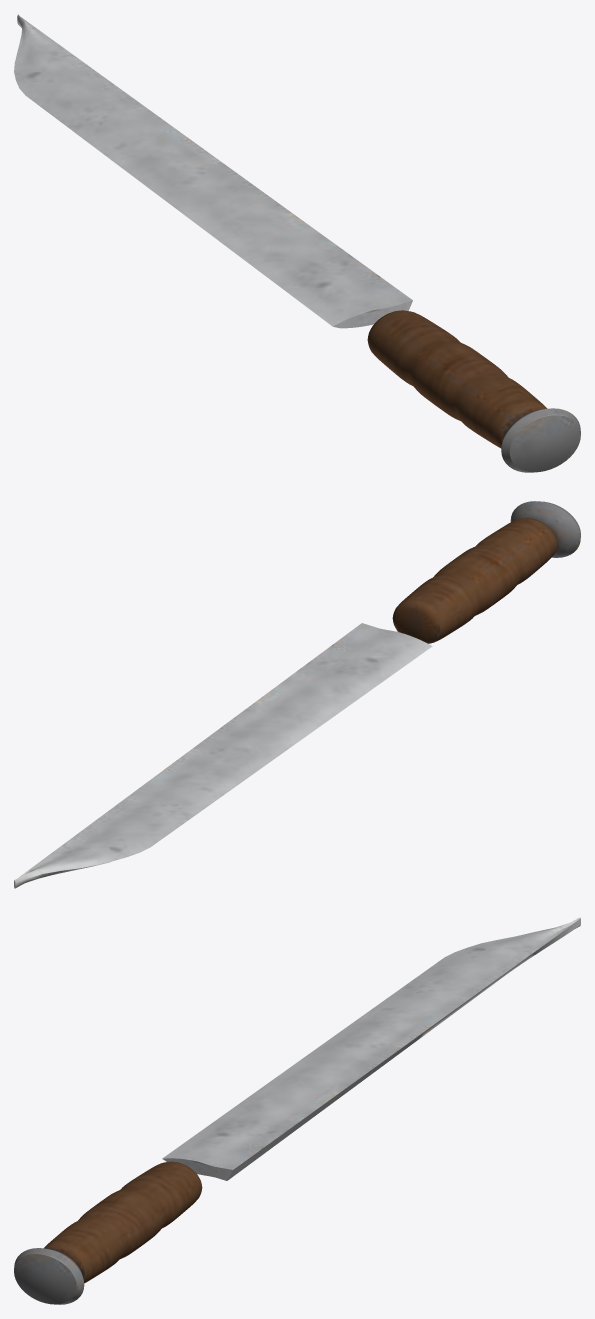
Rendered from scramasax.glb.
The picture shows the model from 3 angles, top to bottom: view 1: azimuth 30°, elevation 25°; view 2: azimuth 150°, elevation 25°; view 3: azimuth 330°, elevation 25°; orthographic projection. The views are drawn at different scales.
Visible parts, largest first — view 1: scramasax; view 2: scramasax; view 3: scramasax.
Boxes of the visible parts, box(x1,y1,x2,y2) form: scramasax: box(14, 14, 580, 472); scramasax: box(14, 501, 580, 888); scramasax: box(14, 917, 580, 1304).
Size of the model in its own units: 0.04 by 0.0292 by 0.4919.
1 material, 1 textured.
